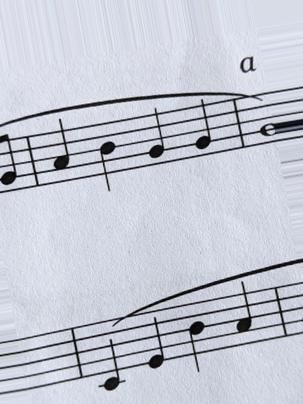A: (223, 281, 259, 350), (43, 118, 76, 187)
B: (182, 299, 211, 380), (93, 122, 124, 196)
E: (142, 309, 171, 374)
G: (138, 108, 174, 167), (192, 101, 214, 161)
LC: (92, 319, 130, 395)
